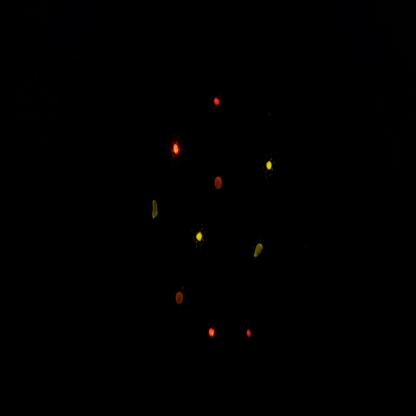PE: (261, 150, 277, 184), (193, 220, 208, 253)
PET: (205, 87, 234, 132), (236, 317, 258, 351)
PP: (145, 191, 165, 231), (248, 236, 269, 268)
PS: (173, 286, 188, 314), (212, 170, 226, 196)
PVC: (167, 134, 186, 168), (203, 318, 221, 353)
